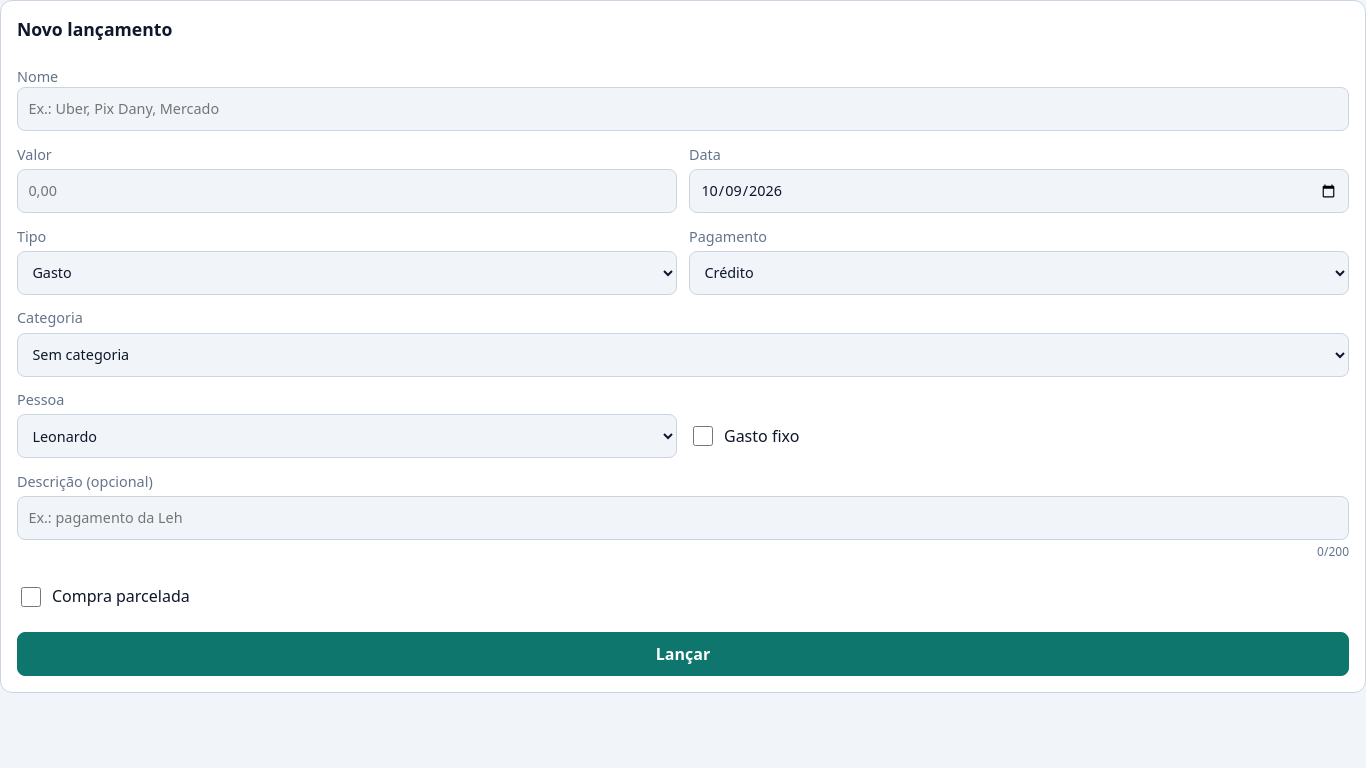
envio › parcelamento não aparece para entradas
Check: the checkbox labelled "Compra parcelada" is shown, box [21, 586, 41, 606]
Select "Entrada" in the dropdown labelled "Tipo" at (347, 273), box [17, 251, 677, 295]
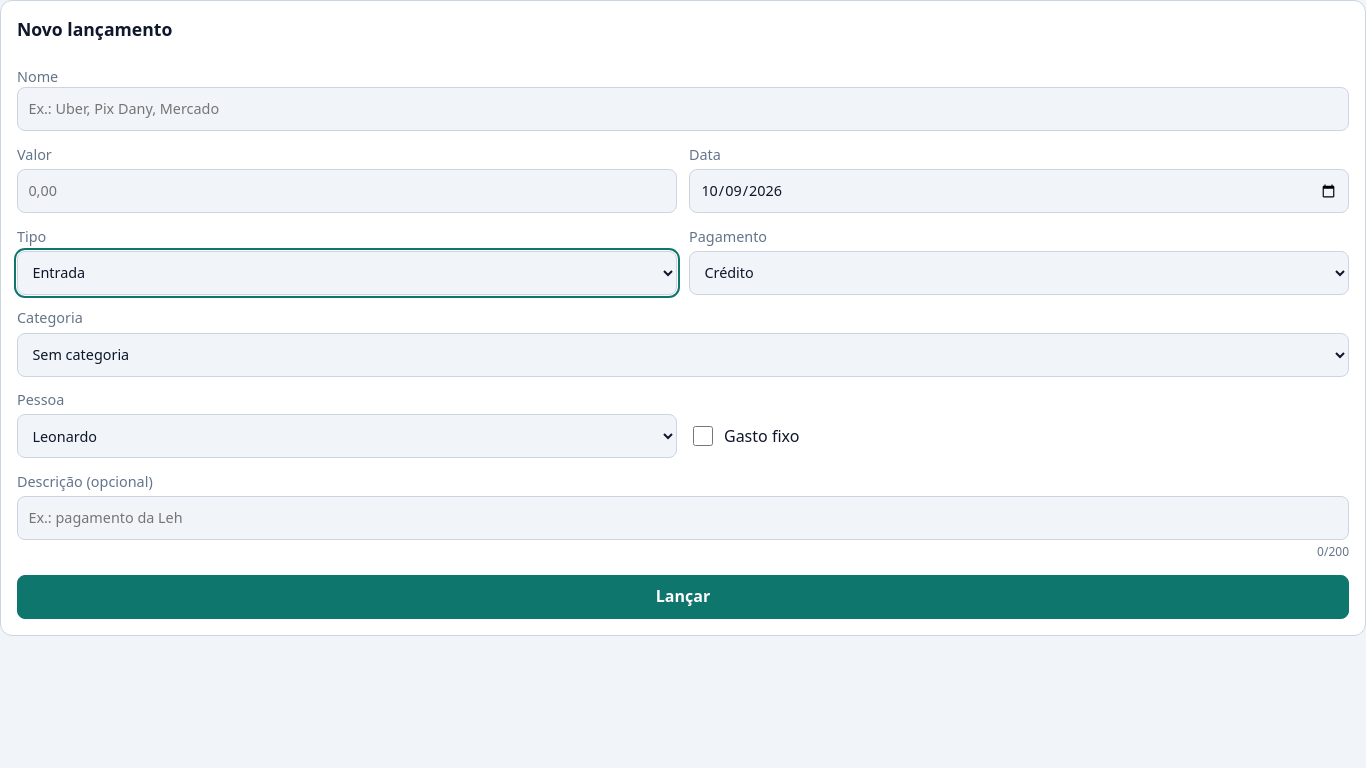
Check: the label labelled "Compra parcelada" is gone
